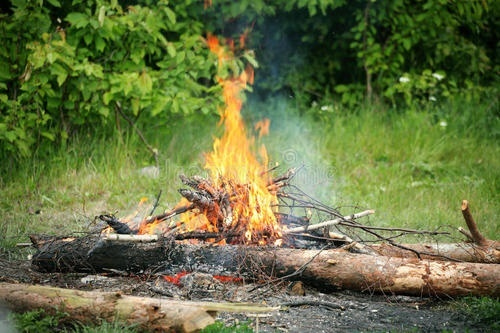fire: (193, 26, 281, 240)
